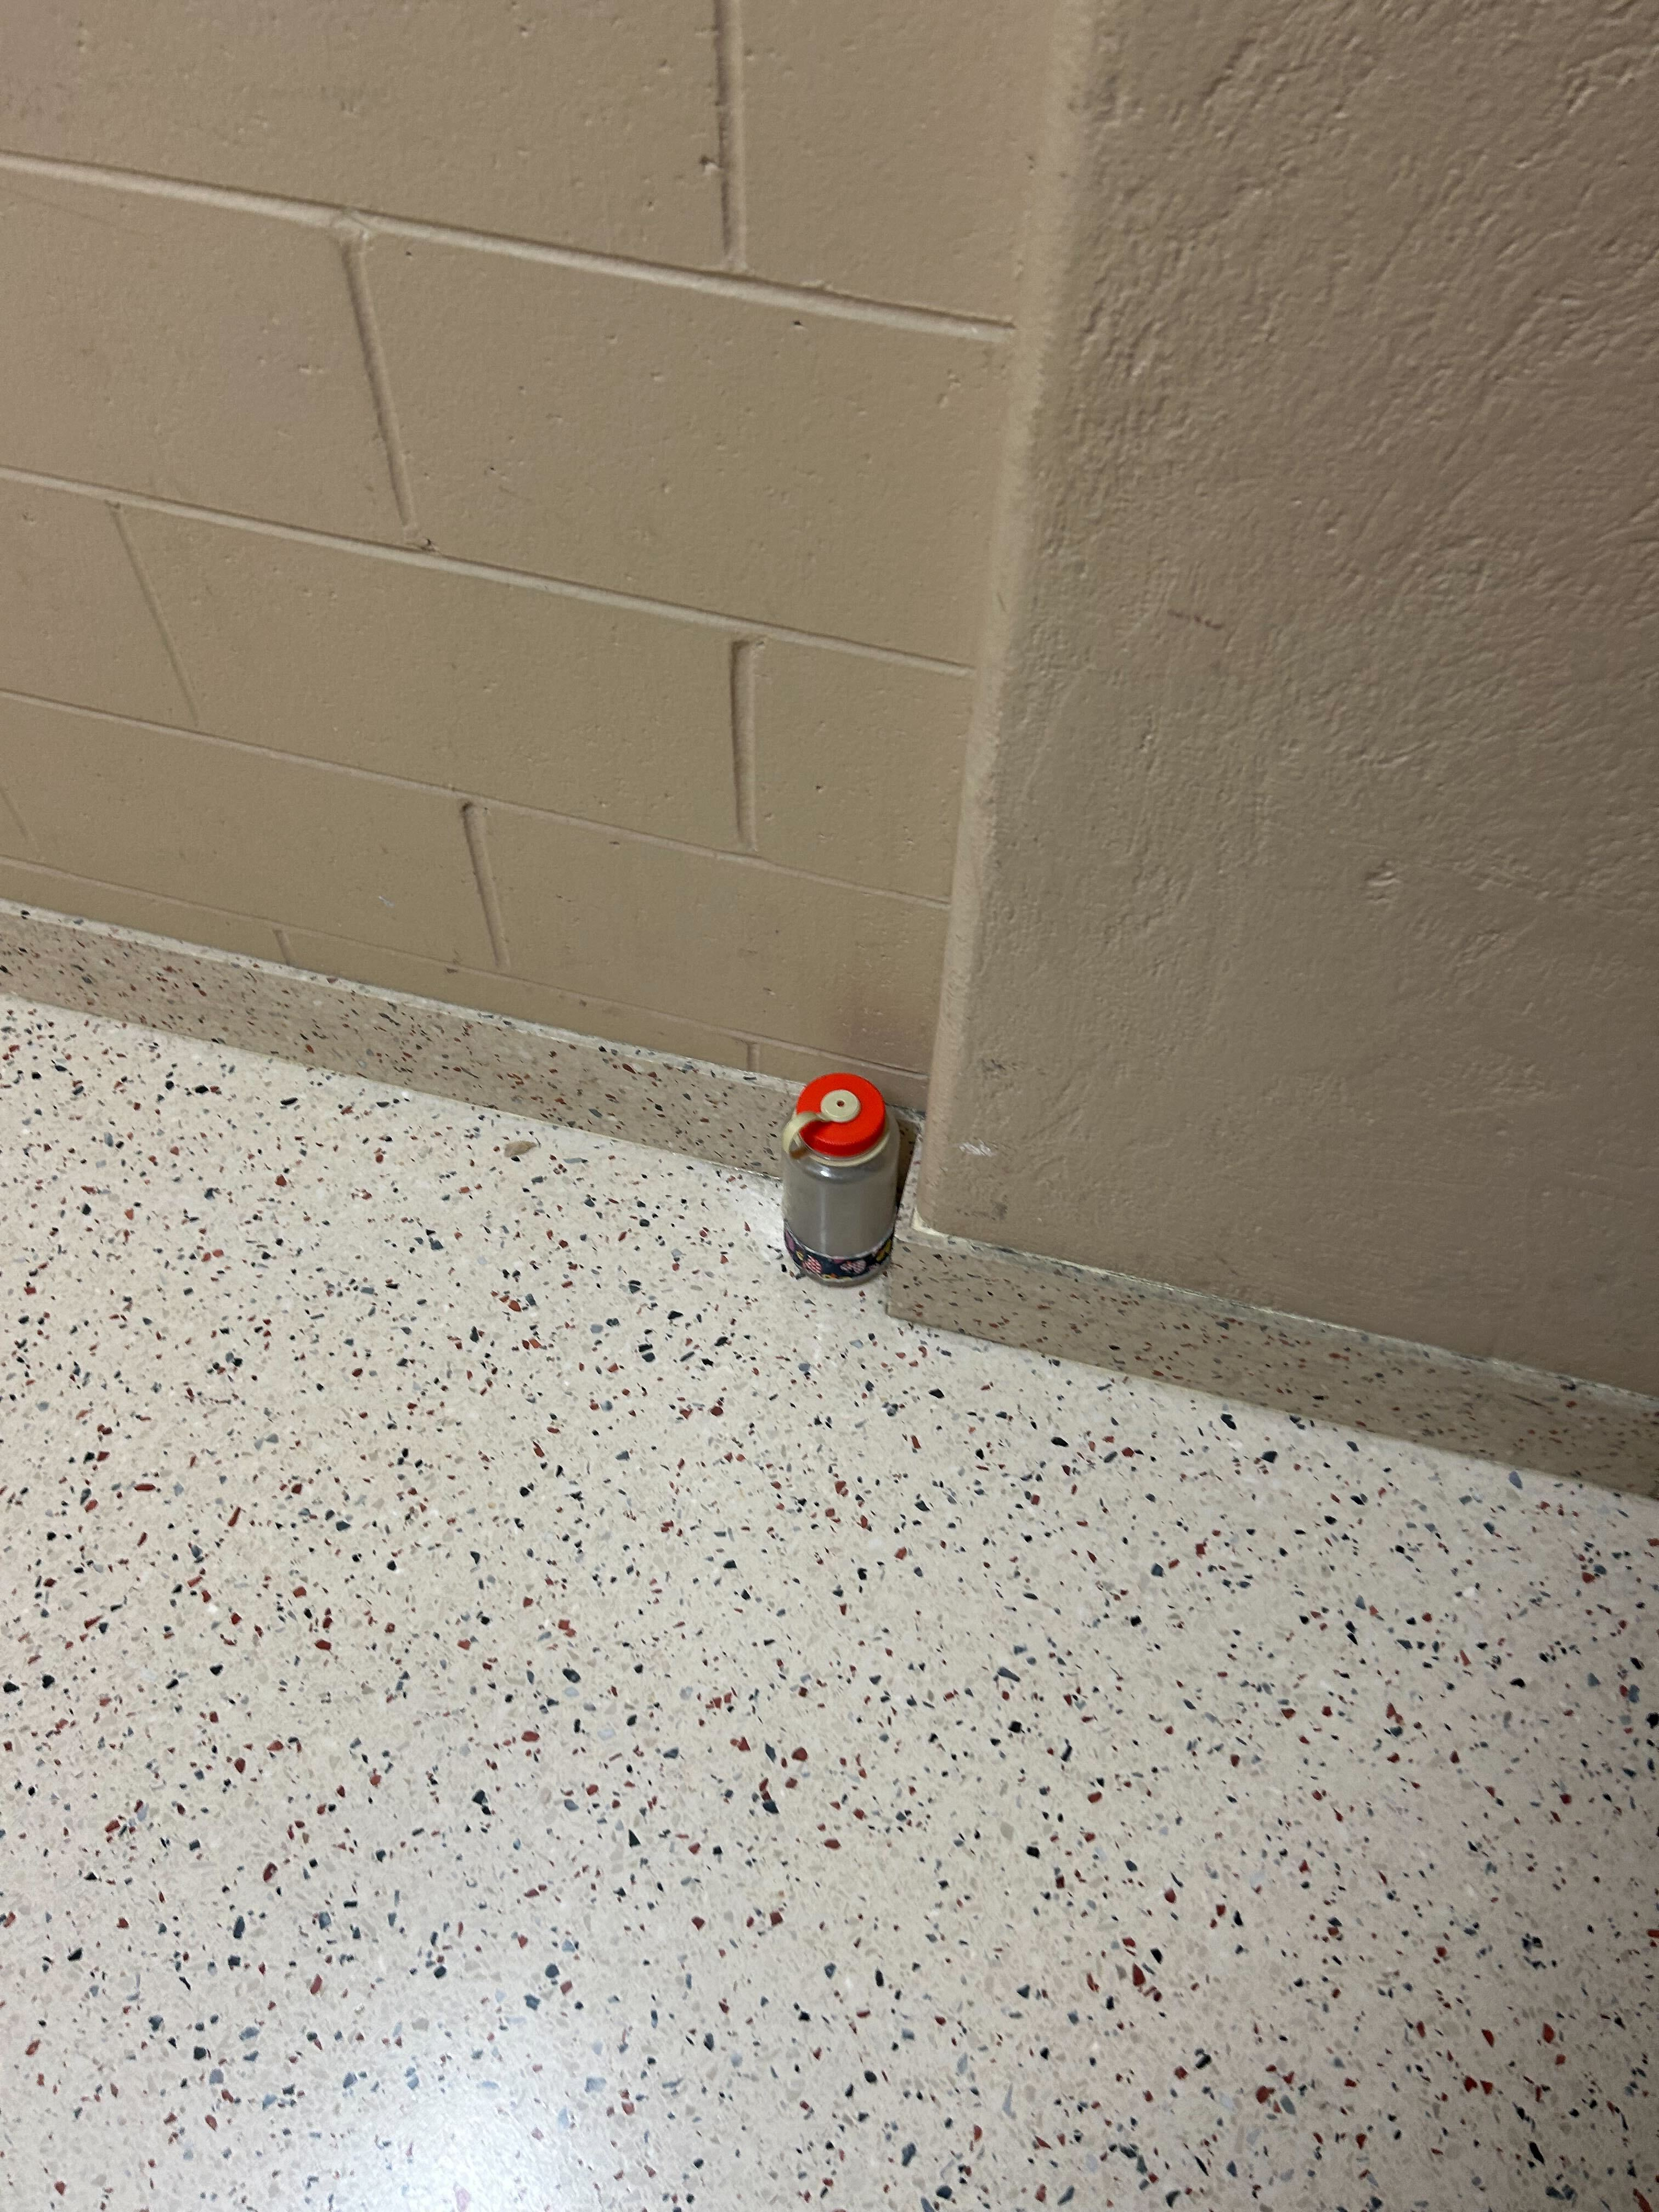bottle: (779, 1062, 903, 1294)
